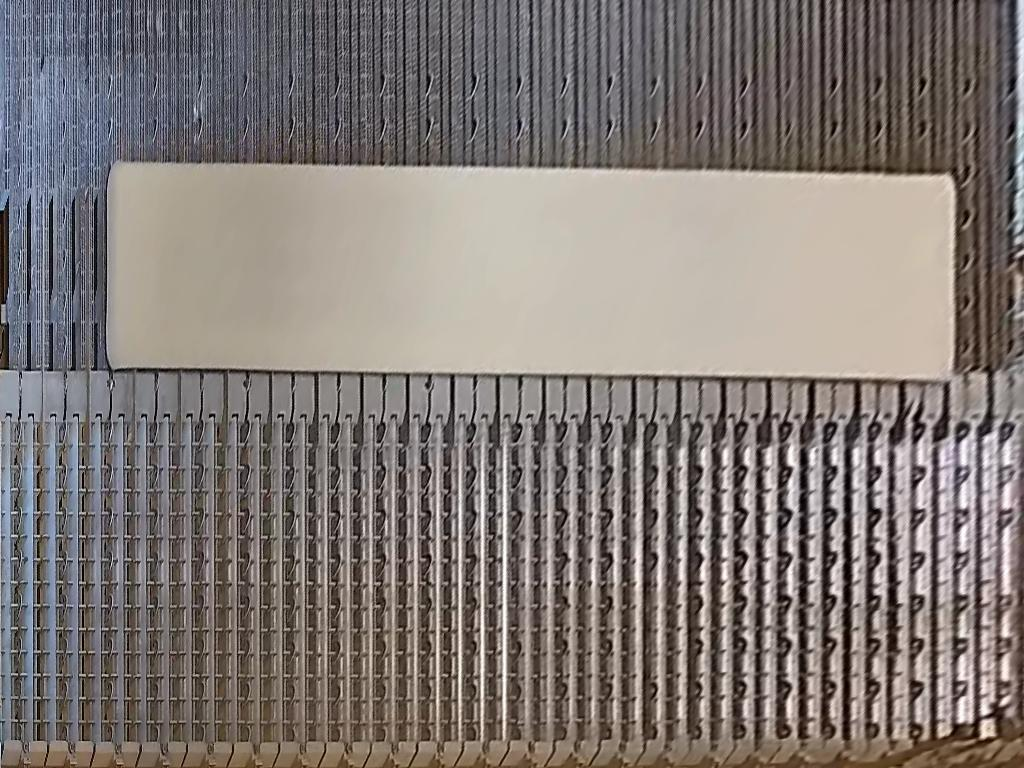steel: (103, 160, 956, 383)
